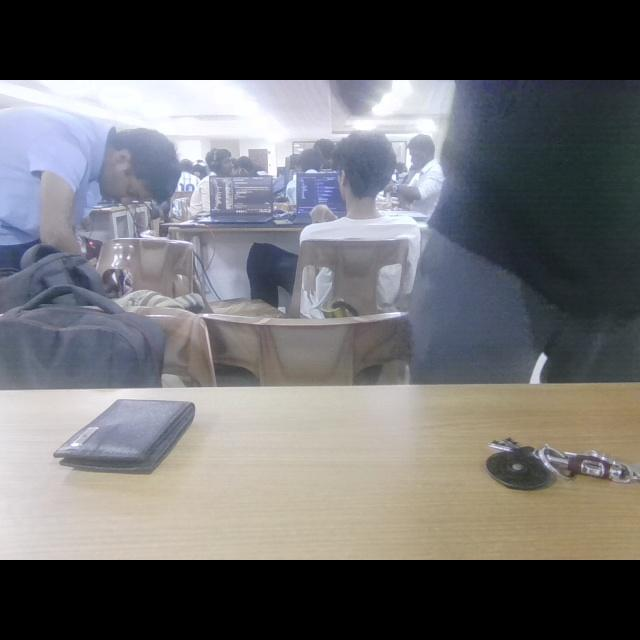keys: (478, 418, 640, 520)
wallet: (51, 394, 229, 481)
